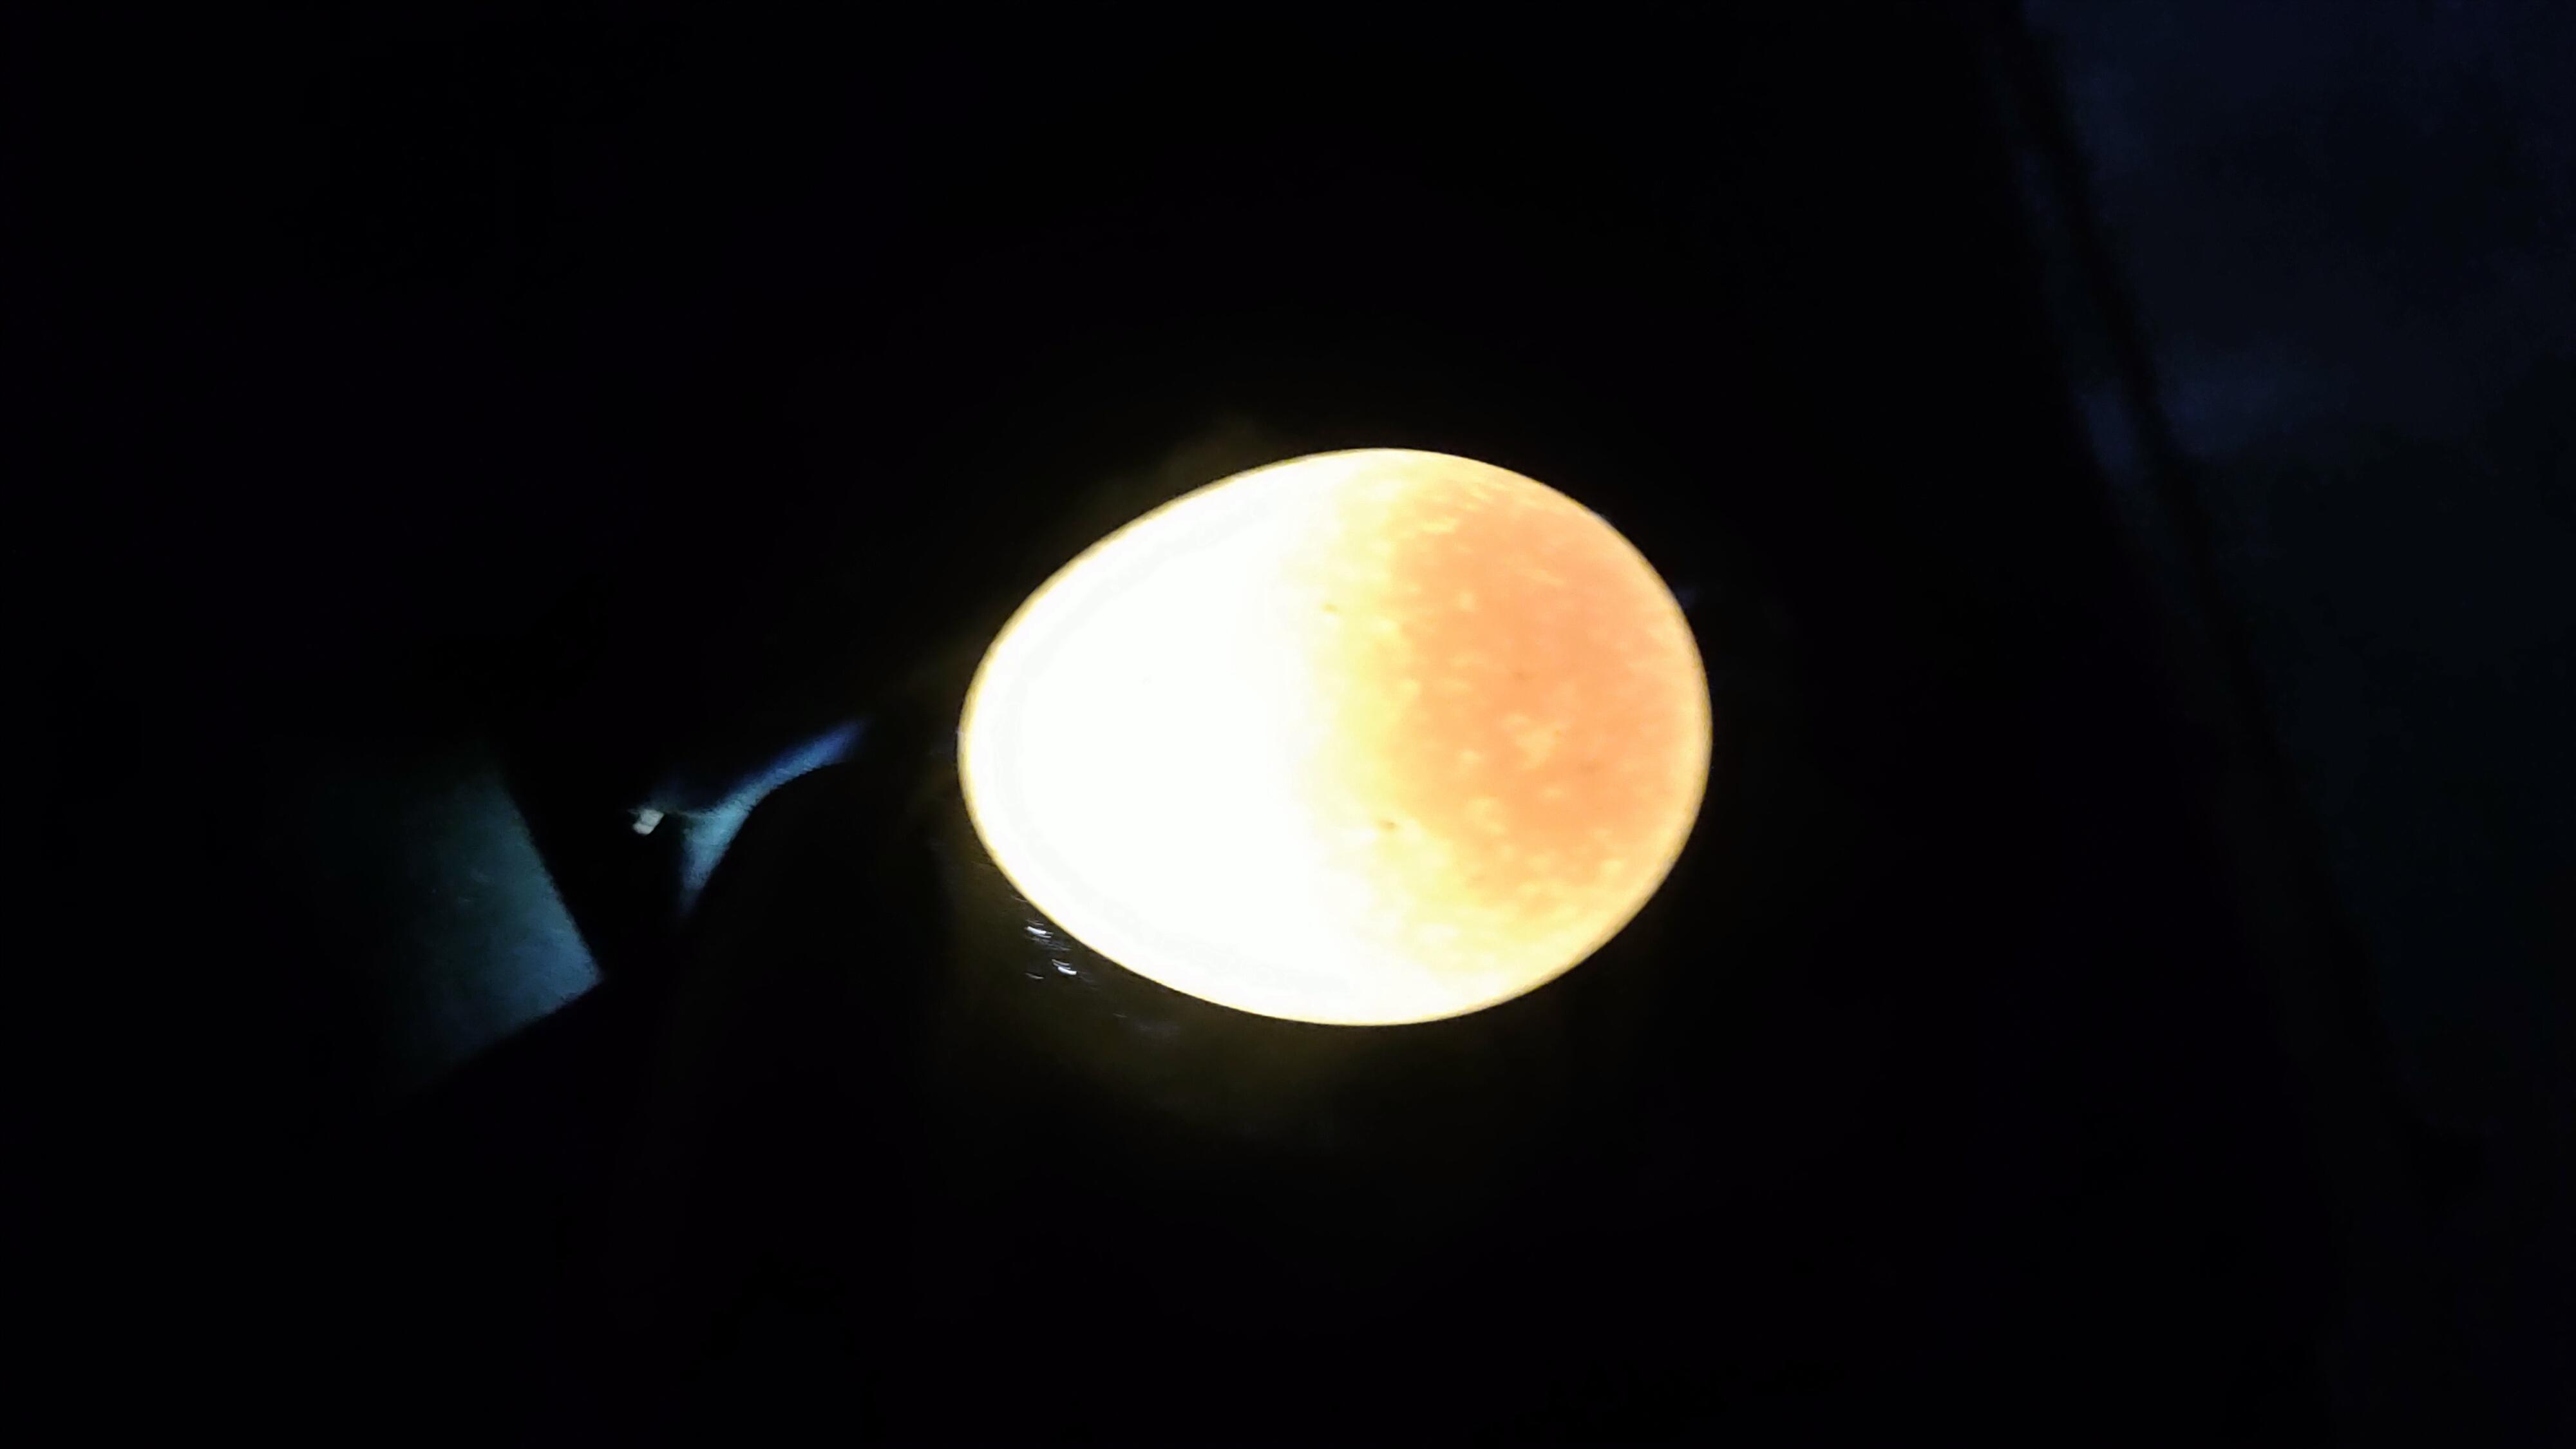Inedible: (932, 430, 1737, 1049)
